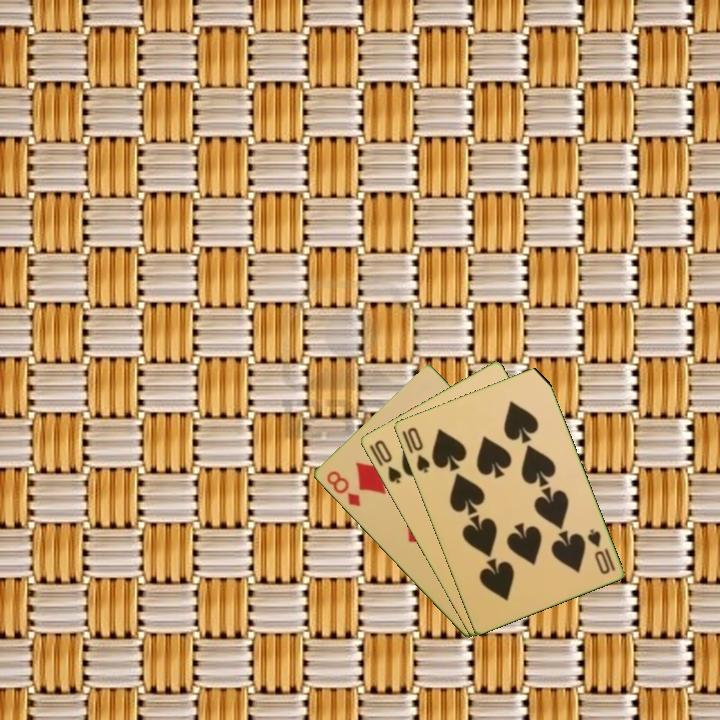10s: (365, 436, 404, 487), (583, 525, 618, 577), (403, 423, 433, 476)
8d: (322, 467, 363, 510)
